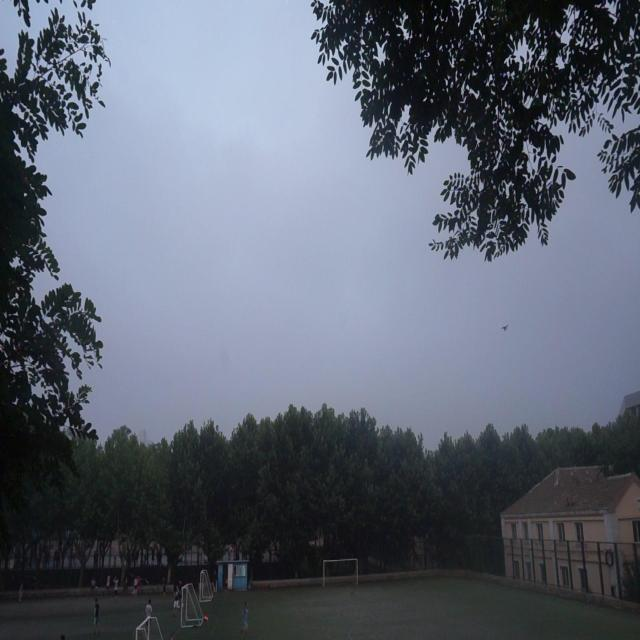drone: (498, 320, 509, 336)
